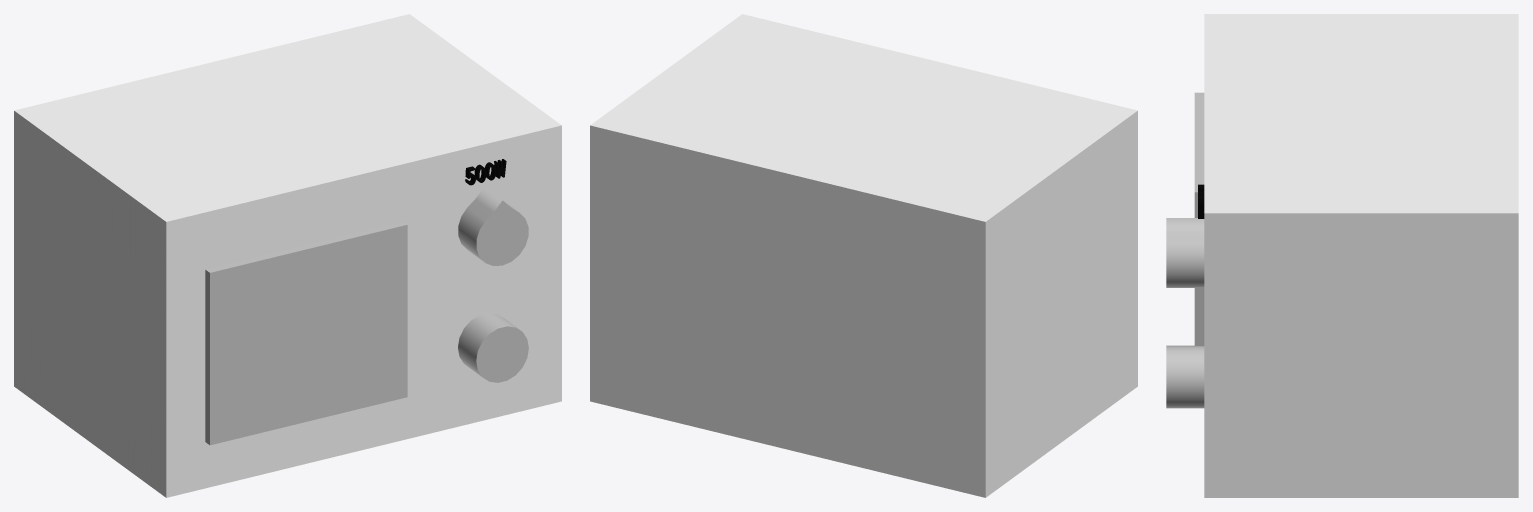
The model's file is garakuta1.FBX.
The picture shows the model from 3 angles, left to right: view 1: azimuth 30°, elevation 25°; view 2: azimuth 150°, elevation 25°; view 3: azimuth 270°, elevation 25°; orthographic projection. The views are drawn at different scales.
Parts seen in each view (by area): view 1: Box001, Box002, Cylinder001, Cylinder002, Text001; view 2: Box001; view 3: Box001, Cylinder001, Cylinder002, Box002.
Part boxes in pixels (bbox=[...]): Box001: bbox=[14, 14, 561, 497]; Box002: bbox=[205, 221, 407, 445]; Cylinder001: bbox=[458, 187, 528, 265]; Cylinder002: bbox=[458, 313, 528, 382]; Text001: bbox=[465, 159, 506, 185]; Box001: bbox=[590, 14, 1137, 497]; Box001: bbox=[1204, 14, 1518, 497]; Cylinder001: bbox=[1166, 218, 1204, 287]; Cylinder002: bbox=[1166, 345, 1204, 408]; Box002: bbox=[1194, 92, 1204, 345].
Size of the model in its own units: 60 by 44.82 by 40.
3 materials, 2 textured.
